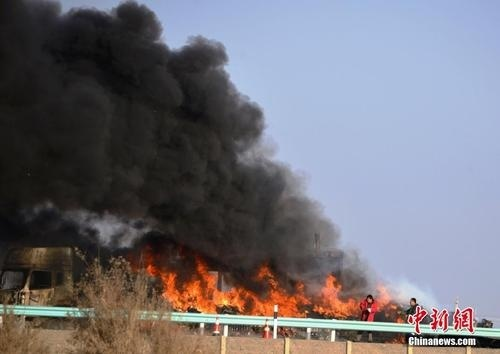fire: (150, 256, 374, 316)
